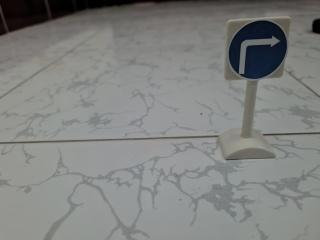right: (223, 12, 289, 87)
